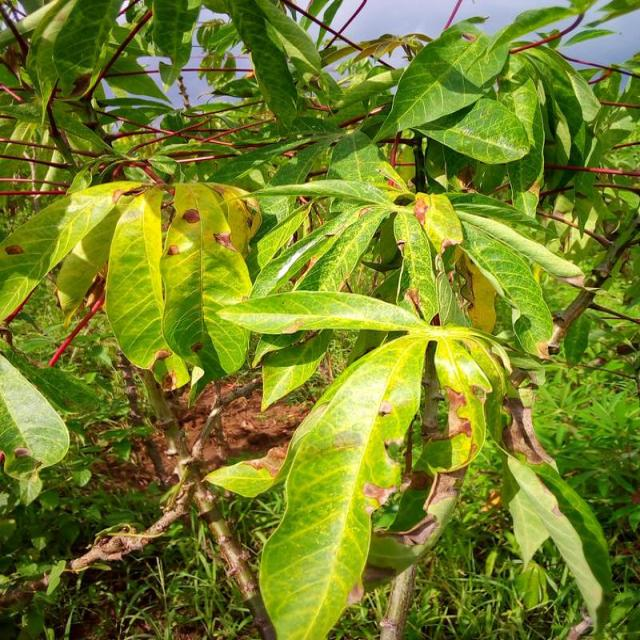cassava leaf: (1, 1, 635, 637), (256, 329, 428, 638), (158, 180, 253, 407)
